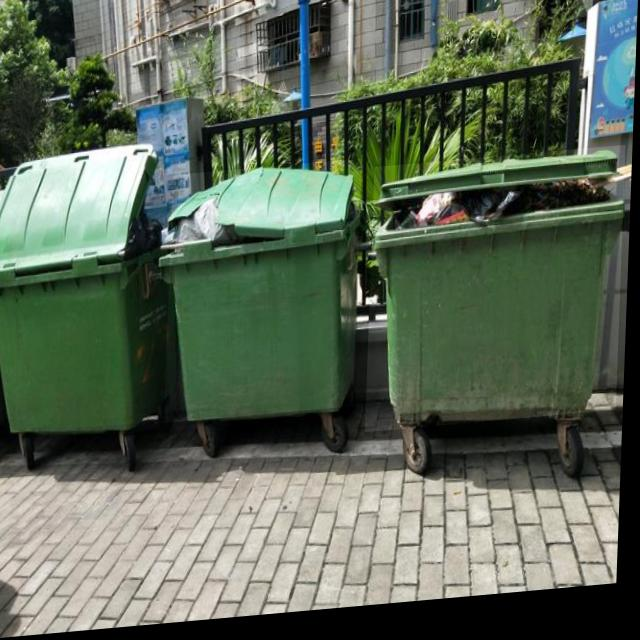overflow: (368, 157, 627, 439), (157, 165, 364, 427), (0, 144, 175, 437)
